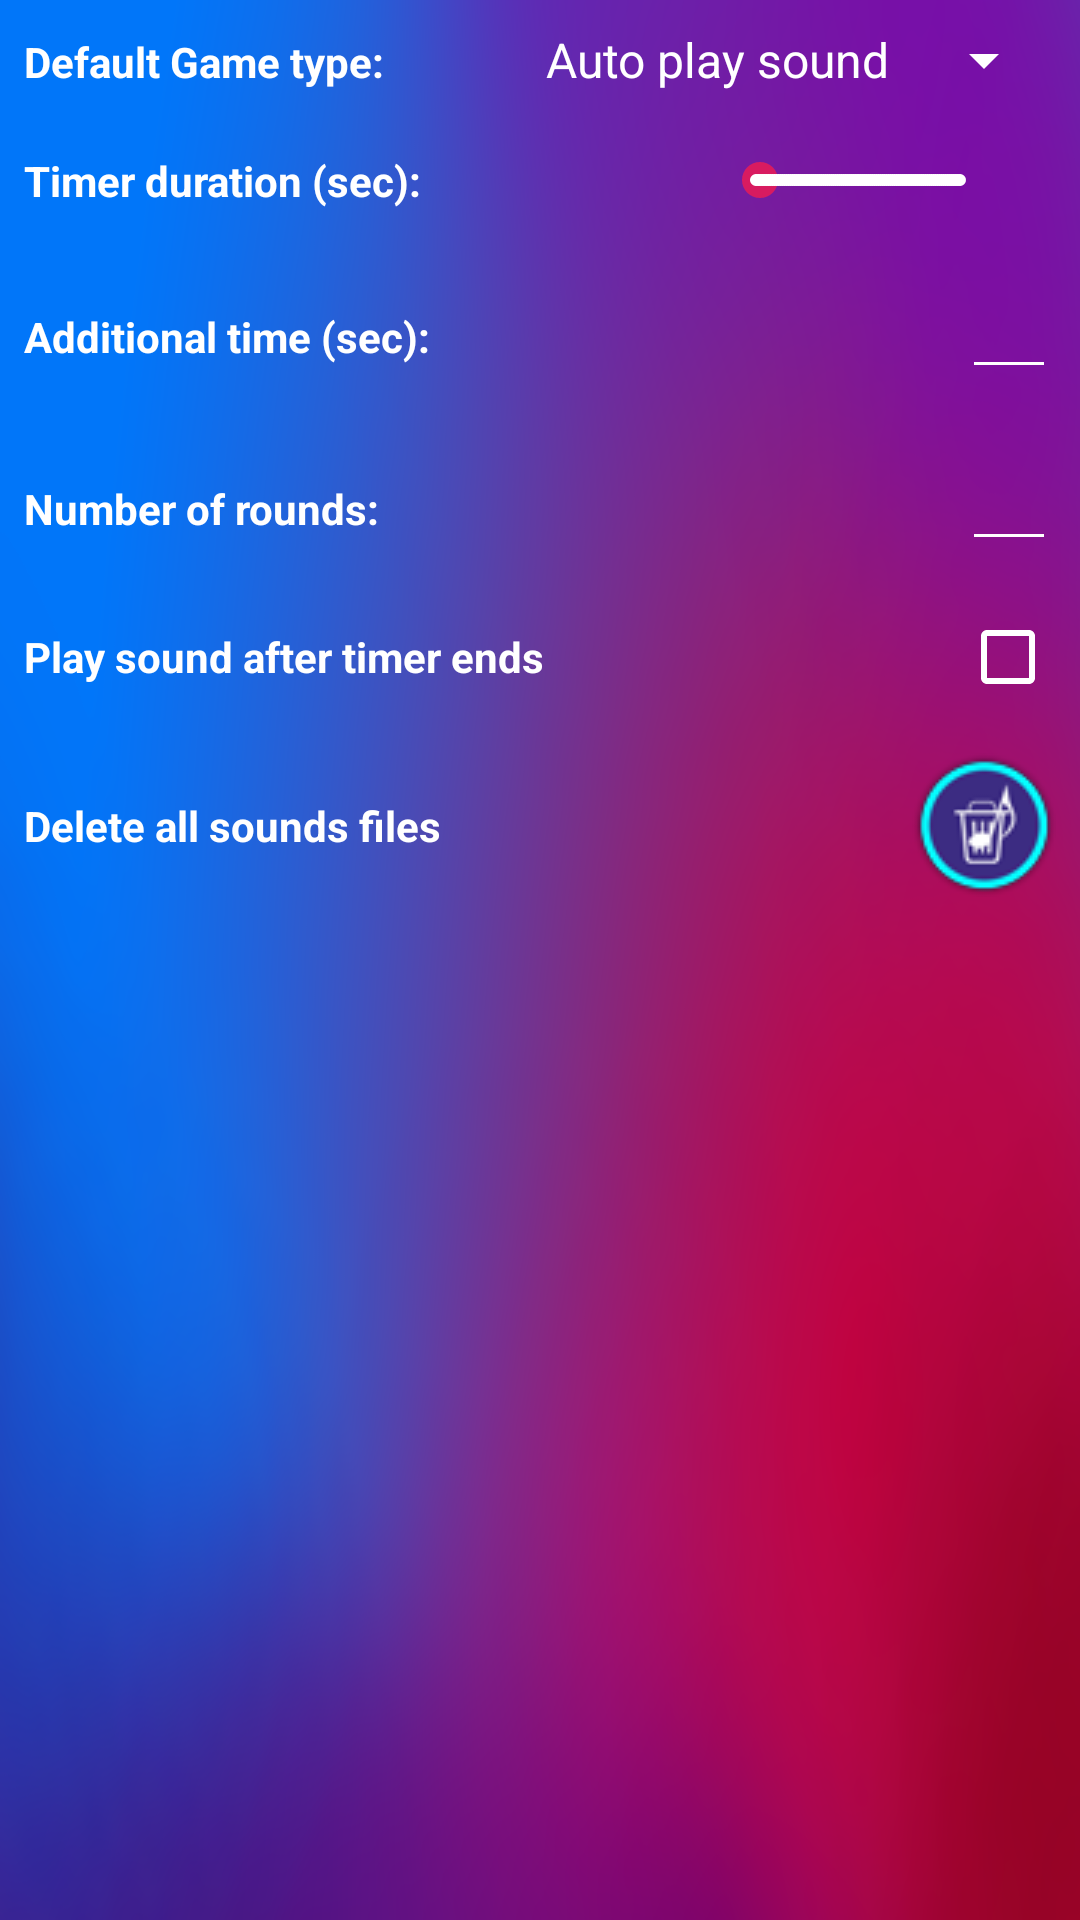

Screen size 1080w x 1920h. Icon name, then its box in pixels as (x1, y1, x2, y2):
anim delete sounds: (917, 757, 1052, 892)
